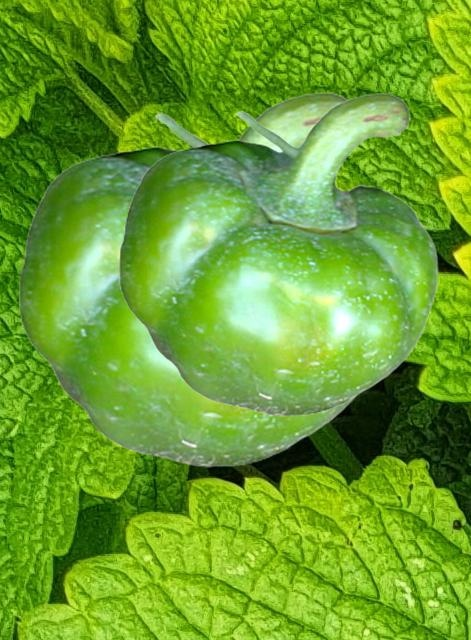bell_pepper: (19, 91, 362, 466), (119, 92, 437, 415)
